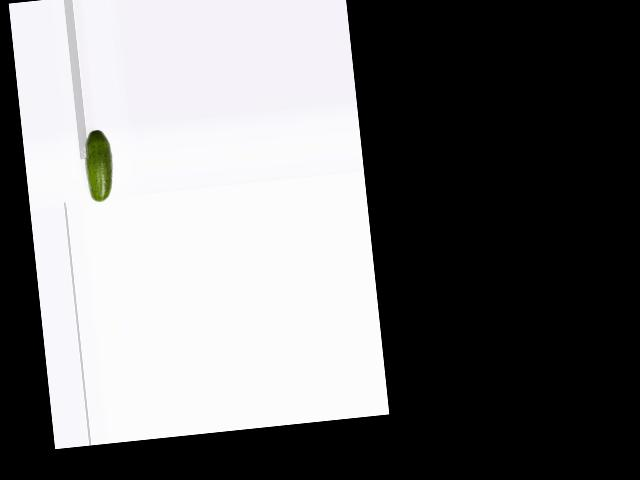cucumber: (81, 127, 116, 203)
